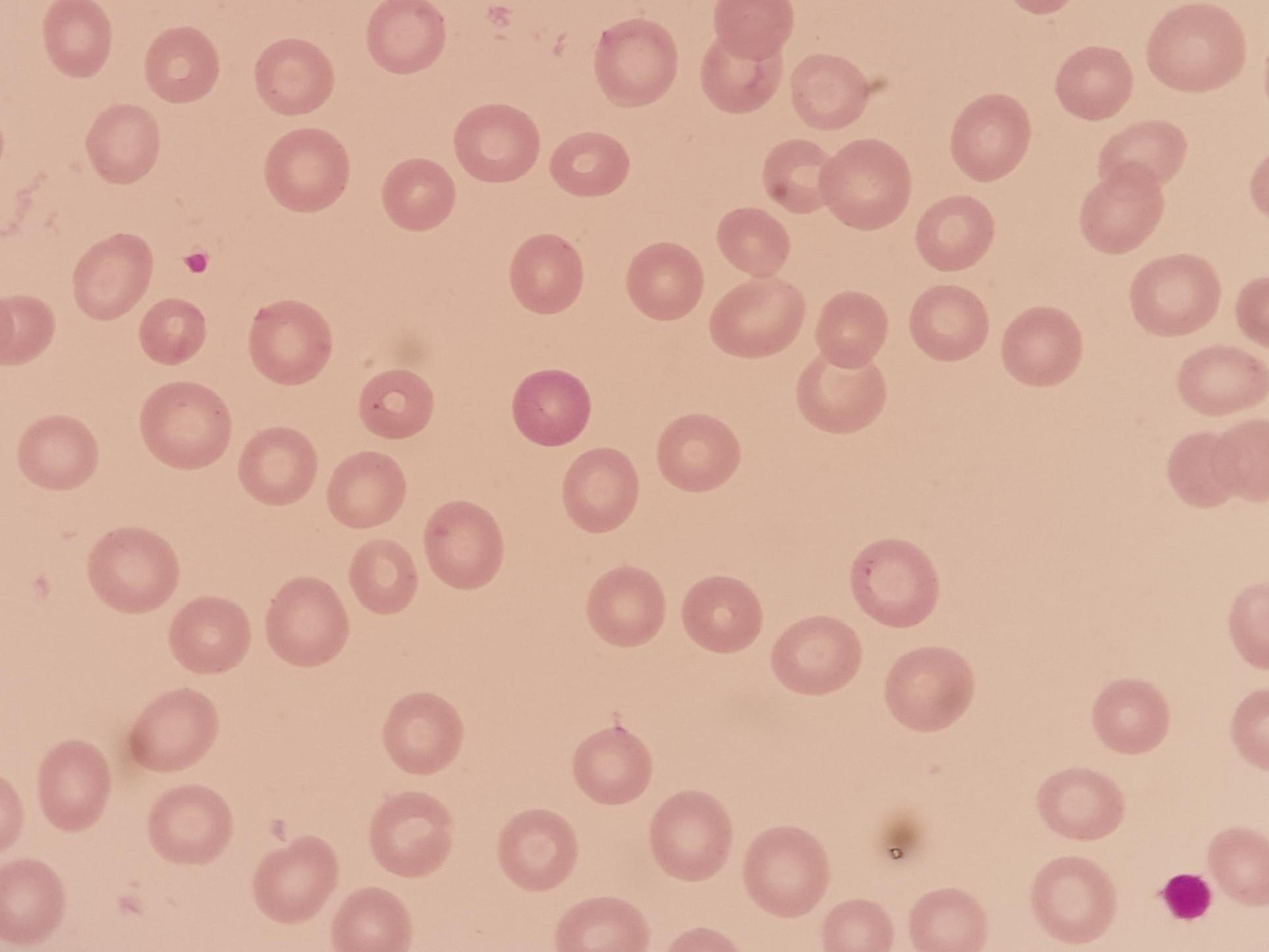Uninfected: (1147, 3, 1244, 90), (819, 139, 911, 228), (88, 526, 180, 614), (851, 539, 940, 627), (140, 382, 231, 468), (742, 825, 828, 916), (128, 689, 219, 773), (252, 835, 338, 923), (709, 279, 803, 359), (884, 648, 974, 731), (369, 793, 456, 878), (648, 793, 732, 881), (264, 128, 350, 213), (1031, 859, 1118, 943), (265, 579, 349, 665), (1079, 170, 1166, 253), (594, 17, 675, 106), (769, 616, 859, 695), (795, 354, 885, 433), (423, 501, 504, 588), (453, 103, 541, 183), (248, 301, 333, 383), (950, 93, 1031, 179), (1129, 254, 1216, 334), (148, 784, 233, 865), (73, 232, 152, 319), (381, 691, 463, 774), (37, 741, 111, 831), (1036, 767, 1125, 841), (1175, 343, 1266, 415), (498, 810, 578, 891), (167, 596, 250, 674), (1001, 306, 1082, 385), (682, 575, 763, 653), (657, 415, 739, 492), (572, 726, 651, 805), (237, 427, 318, 504), (326, 452, 407, 529), (561, 448, 638, 529), (254, 38, 336, 114), (586, 566, 664, 645), (17, 415, 97, 492), (790, 53, 871, 128), (1091, 679, 1169, 756), (508, 234, 584, 313), (915, 196, 995, 271), (626, 242, 703, 319), (814, 291, 890, 369), (909, 284, 988, 359), (1054, 45, 1133, 119), (86, 103, 159, 183), (1098, 119, 1185, 186), (145, 27, 221, 103), (700, 40, 779, 113), (367, 0, 447, 72), (512, 370, 589, 444), (1168, 431, 1242, 507), (381, 157, 457, 230), (348, 539, 421, 614), (358, 369, 434, 440), (550, 132, 630, 198), (0, 860, 64, 942), (43, 1, 112, 77), (716, 207, 790, 277), (554, 897, 646, 952), (331, 888, 409, 952), (908, 888, 986, 951), (763, 139, 829, 213), (1207, 827, 1269, 905), (138, 298, 208, 365), (716, 0, 792, 59), (821, 900, 894, 952), (1, 296, 55, 364)
